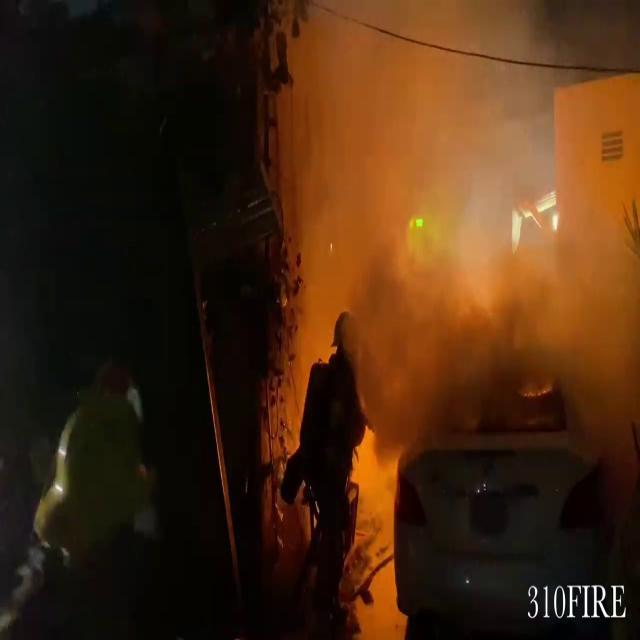Smoke: (264, 0, 640, 436)
